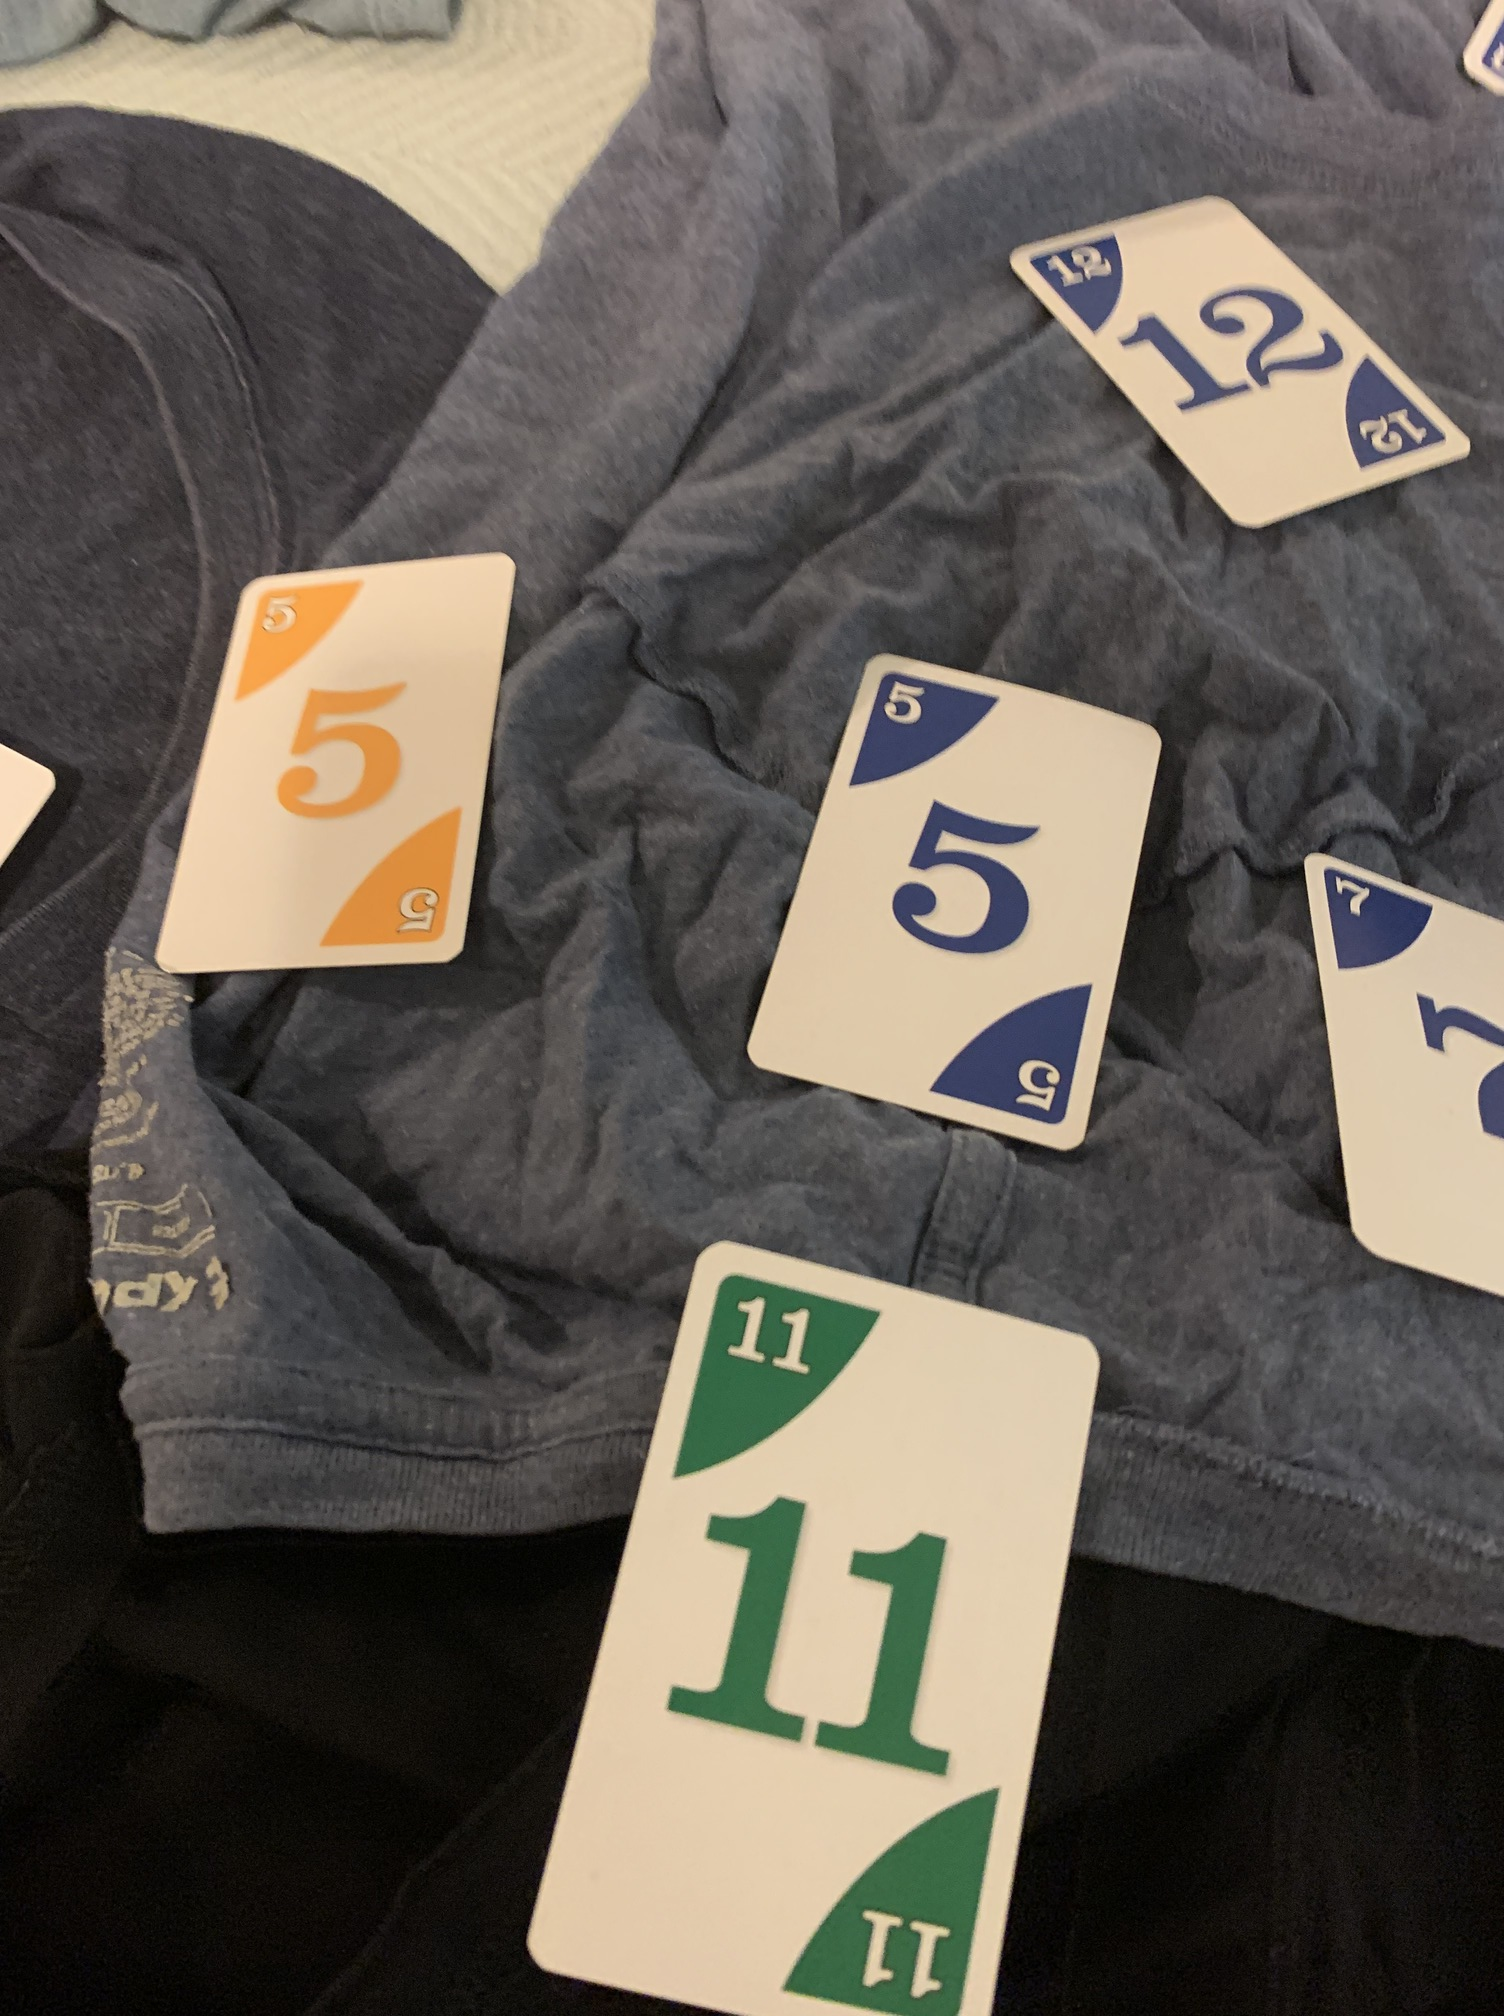eleven: (510, 1231, 1111, 2016)
five: (733, 638, 1177, 1180), (149, 547, 517, 980)
seven: (1288, 844, 1504, 1284)
twelve: (989, 183, 1479, 540)
